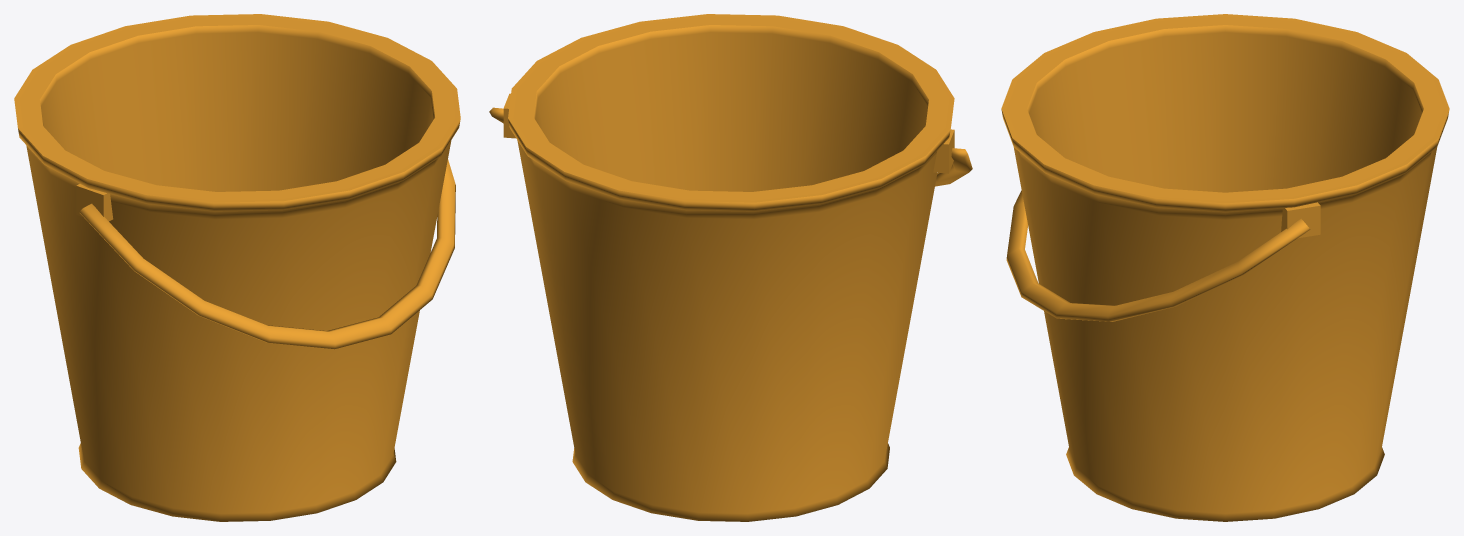
The model's file is Eimerl.fbx.
3 renders of one model, left to right at view 1: azimuth 30°, elevation 25°; view 2: azimuth 150°, elevation 25°; view 3: azimuth 270°, elevation 25°, orthographic.
Visible parts, largest first — view 1: Cylinder.006; view 2: Cylinder.006; view 3: Cylinder.006.
Boxes of the visible parts, x1=… form: Cylinder.006: x1=14, y1=14, x2=460, y2=521; Cylinder.006: x1=489, y1=14, x2=972, y2=521; Cylinder.006: x1=1001, y1=14, x2=1449, y2=521.
Bounding box in the file's own units: 25.49 × 20.92 × 24.57.
